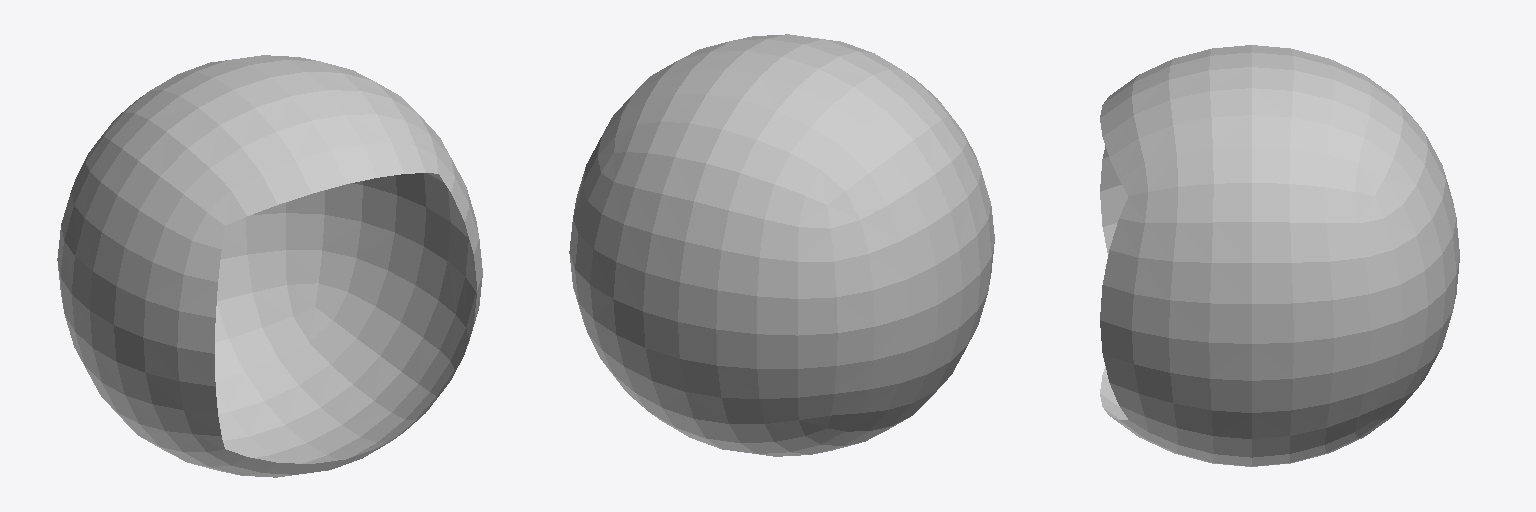
Rendered from mars.obj.
3 renders of one model, left to right at view 1: azimuth 30°, elevation 25°; view 2: azimuth 150°, elevation 25°; view 3: azimuth 270°, elevation 25°, orthographic.
Visible parts, largest first — view 1: pCube5_pCubeShape5; view 2: pCube5_pCubeShape5; view 3: pCube5_pCubeShape5.
Part boxes in pixels (x1,y1,x2,y2): pCube5_pCubeShape5: (57,55,482,477); pCube5_pCubeShape5: (569,34,994,456); pCube5_pCubeShape5: (1100,45,1459,466).
Size of the model in its own units: 212 by 212 by 183.